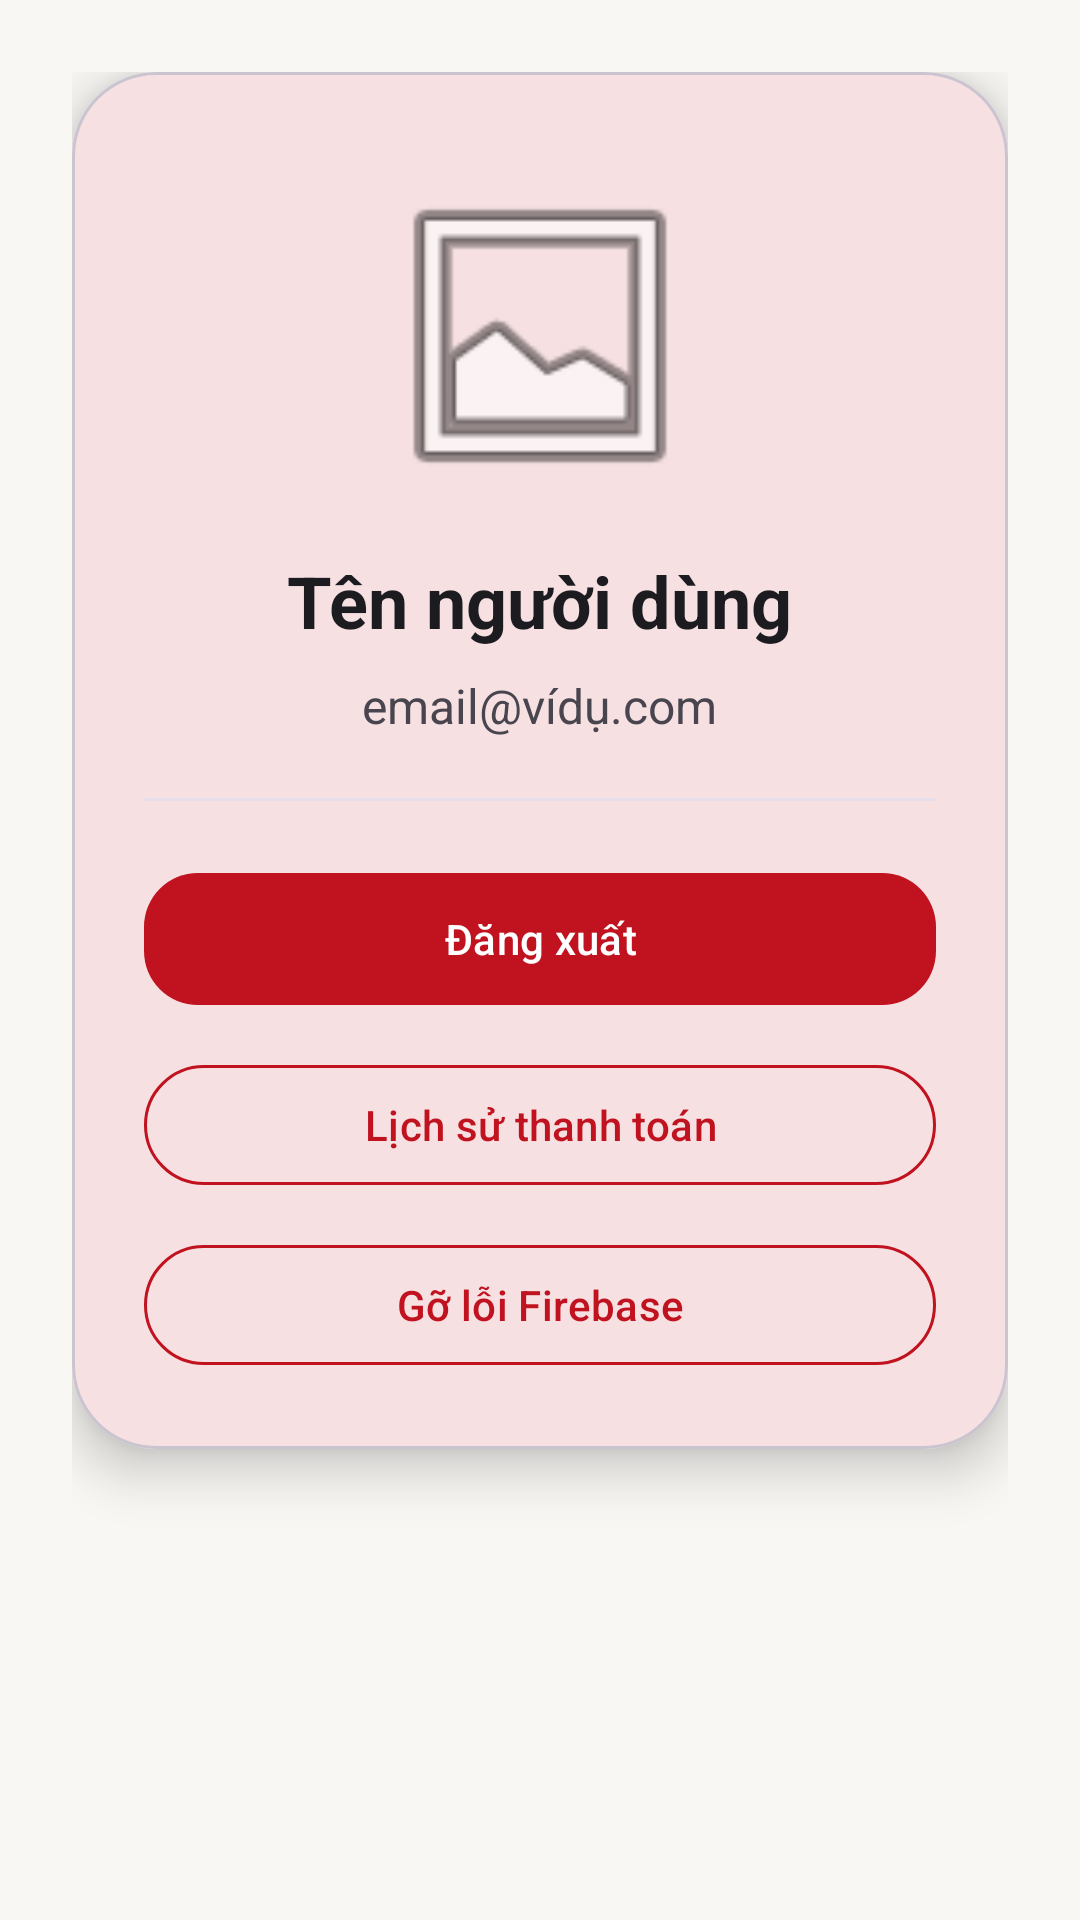

Icons on this 1080px×1920px Android screen, each with its box as (x1, y1, x2, y2):
gallery: (413, 208, 667, 464)
